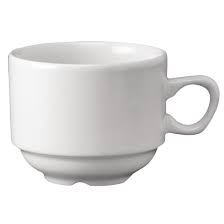cup: (7, 44, 223, 191)
